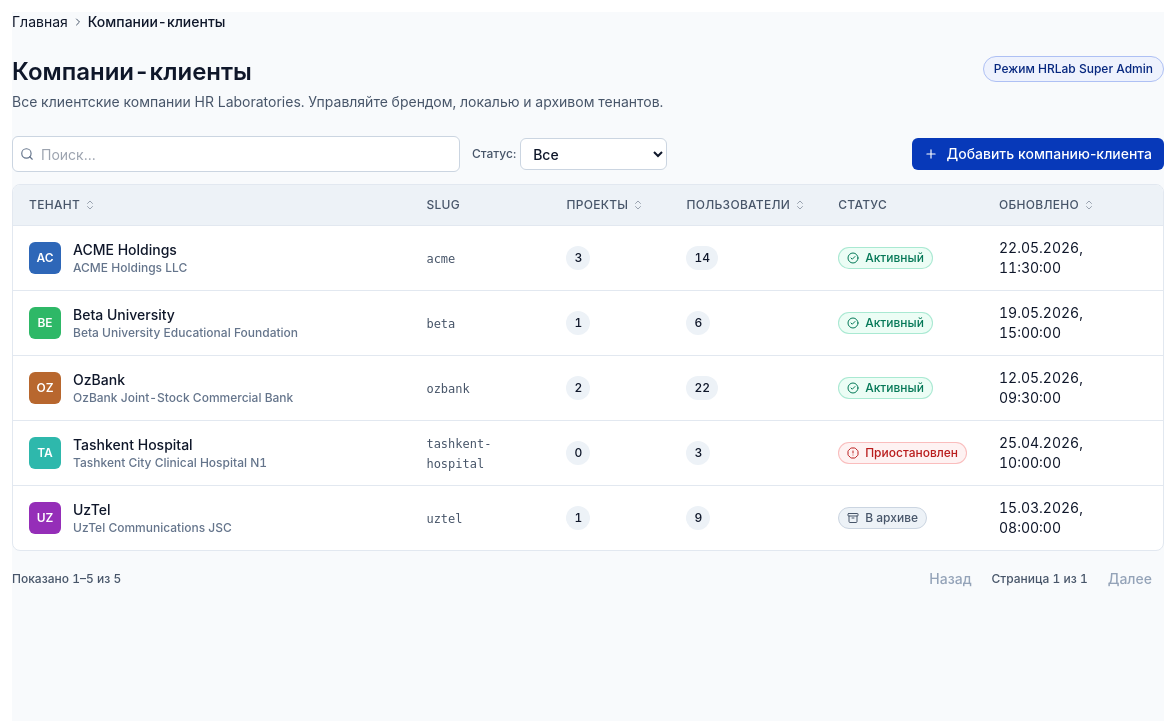
Scenario: <ClientsListPage /> › navigates to ClientDetailsPage on row click and hides archive button without TENANT_ARCHIVE
Click the text "ACME Holdings" at point(130, 250), box x1=73 y1=240 x2=187 y2=260
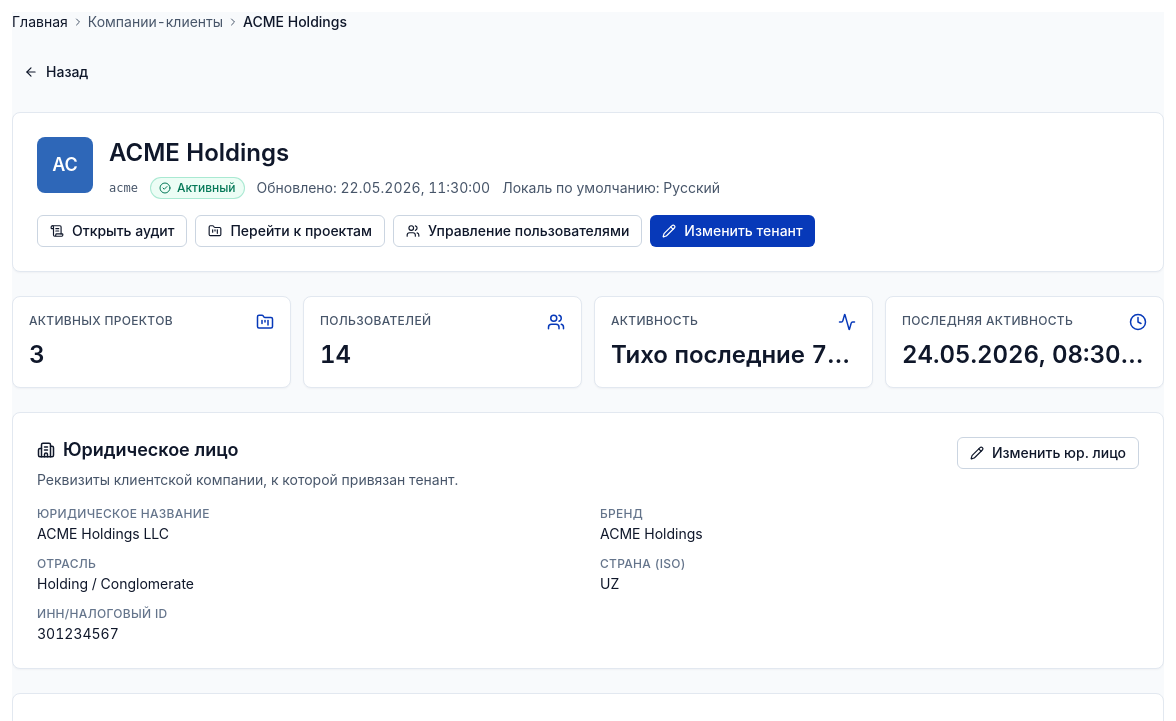
expect the button "Назад" is shown: met, box x1=12 y1=56 x2=100 y2=88
expect the button with test id "edit-tenant-button" is shown: met, box x1=650 y1=215 x2=815 y2=247
